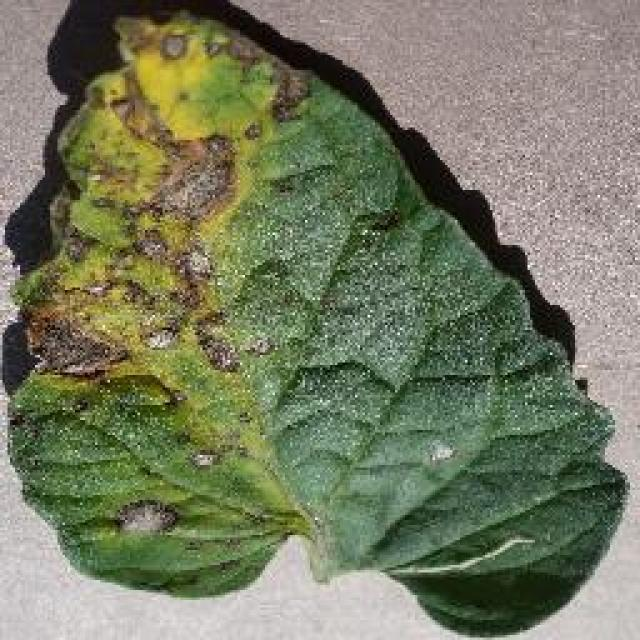Tomato Early blight leaf: (42, 8, 618, 612)
